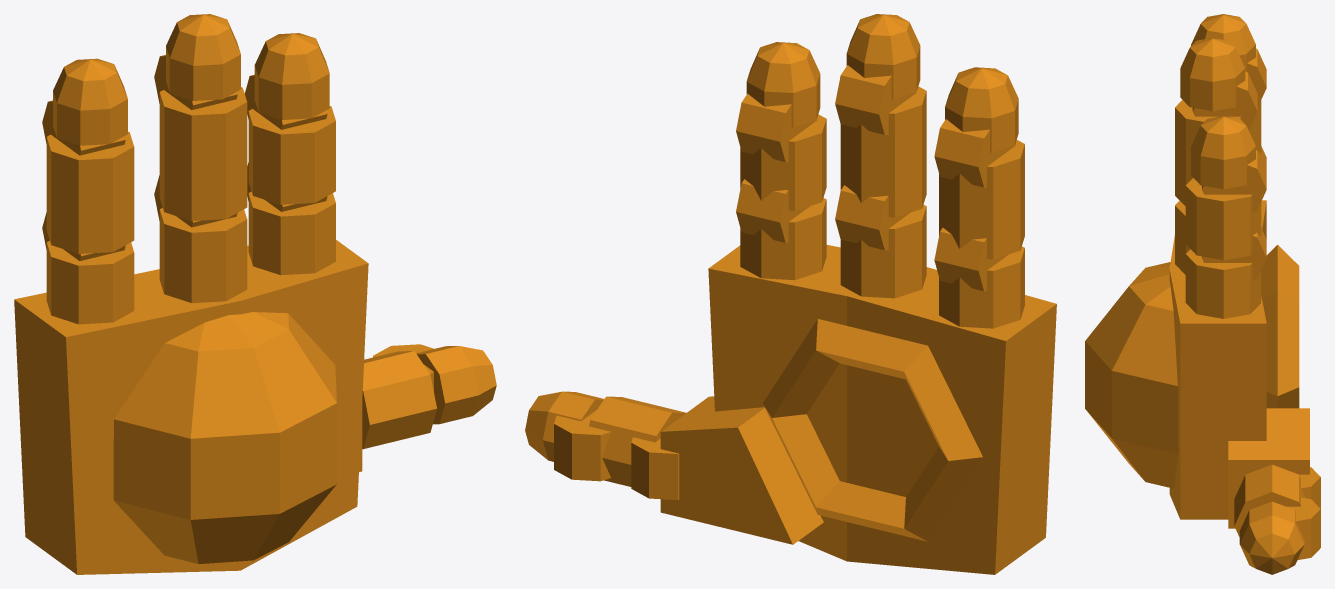
File: hand_model_0.glb
The picture shows the model from 3 angles, left to right: view 1: azimuth 30°, elevation 25°; view 2: azimuth 150°, elevation 25°; view 3: azimuth 270°, elevation 25°; orthographic projection. The views are drawn at different scales.
Parts seen in each view (by area): view 1: Sphere, finger_1, finger_2, finger_0, finger_3; view 2: Sphere, finger_3, finger_1, finger_2, finger_0; view 3: Sphere, finger_0, finger_3, finger_1, finger_2.
Boxes of the visible parts, x1=… form: Sphere: x1=14, y1=240, x2=368, y2=574; finger_1: x1=154, y1=14, x2=247, y2=303; finger_2: x1=42, y1=58, x2=134, y2=324; finger_0: x1=244, y1=33, x2=335, y2=275; finger_3: x1=359, y1=344, x2=496, y2=471; Sphere: x1=708, y1=245, x2=1056, y2=574; finger_3: x1=525, y1=391, x2=823, y2=544; finger_1: x1=835, y1=14, x2=926, y2=298; finger_2: x1=934, y1=67, x2=1024, y2=328; finger_0: x1=736, y1=42, x2=826, y2=280; Sphere: x1=1085, y1=200, x2=1299, y2=519; finger_0: x1=1185, y1=116, x2=1266, y2=318; finger_3: x1=1228, y1=408, x2=1320, y2=574; finger_1: x1=1175, y1=38, x2=1257, y2=274; finger_2: x1=1191, y1=14, x2=1266, y2=170.
Bounding box in the file's own units: 0.43 × 0.46 × 0.2181.
1 material, 1 textured.
